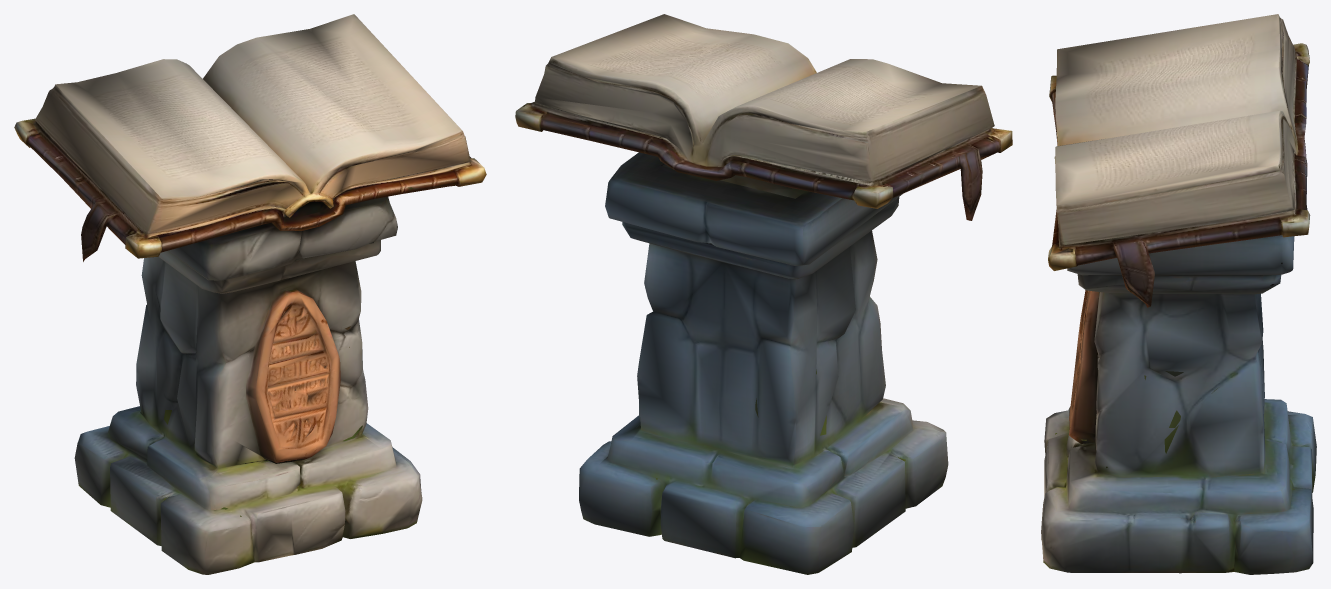
File: lectern.opt.glb
3 views of the same model, side by side, from view 1: azimuth 30°, elevation 25°; view 2: azimuth 150°, elevation 25°; view 3: azimuth 270°, elevation 25° (orthographic). The views are drawn at different scales.
Parts seen in each view (by area): view 1: node_0; view 2: node_0; view 3: node_0.
Boxes of the visible parts, bbox=[...] form: node_0: bbox=[14, 14, 486, 574]; node_0: bbox=[515, 14, 1012, 574]; node_0: bbox=[1041, 14, 1316, 574].
Bounding box in the file's own units: 0.834 × 0.9108 × 0.53.
Materials: 1 (1 with a texture image).
